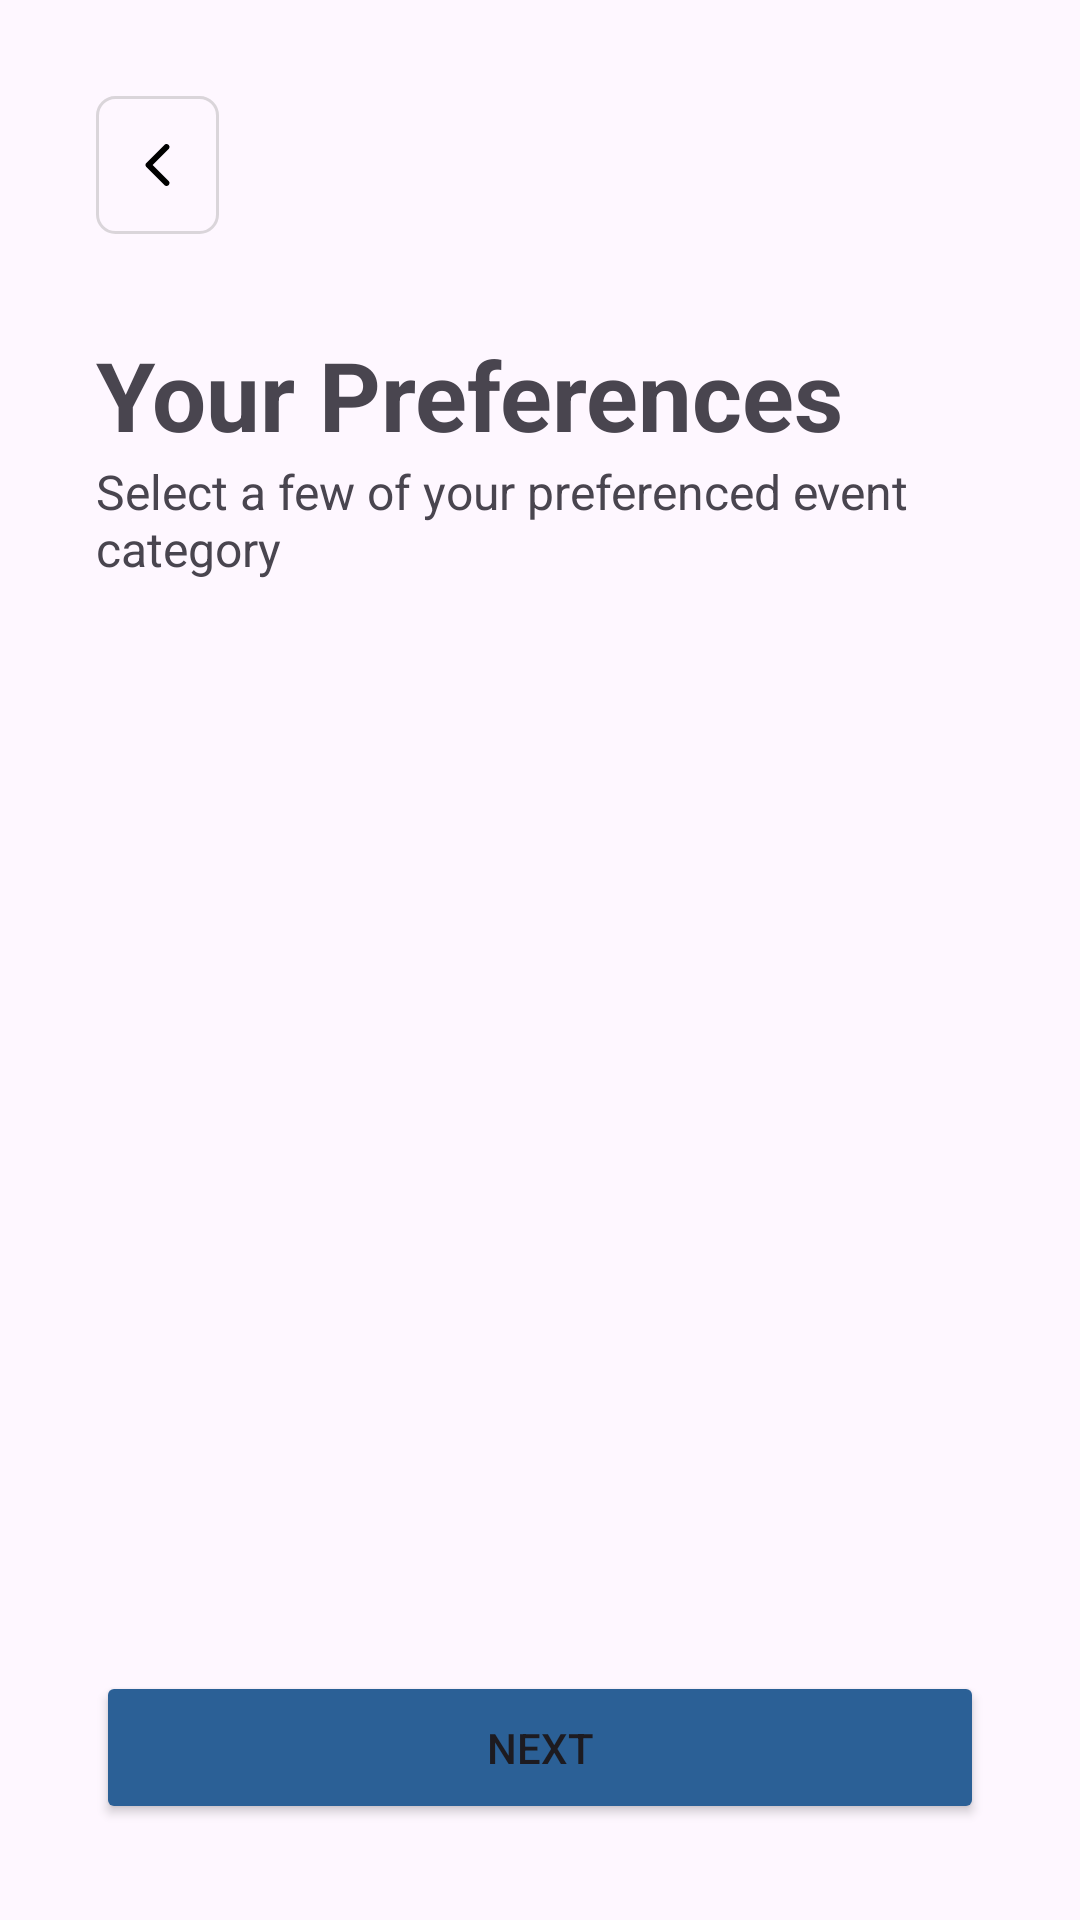

Icons on this 1080 x 1920 Android screen, each with its box as (x1, y1, x2, y2):
arrow left: (96, 96, 219, 234)
